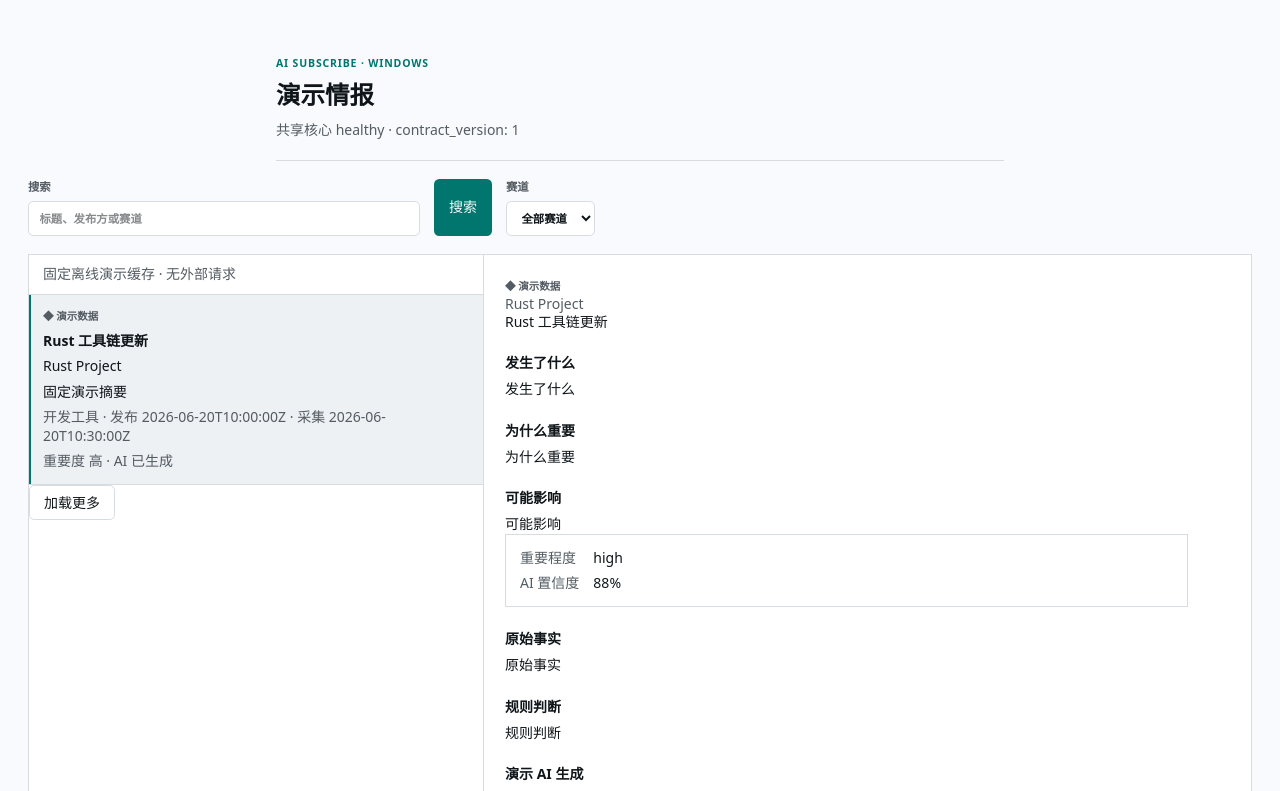
Test: Windows demo intelligence shell › keeps existing rows visible when loading another page fails
Click the button "加载更多" at (72, 503), box [29, 485, 115, 520]
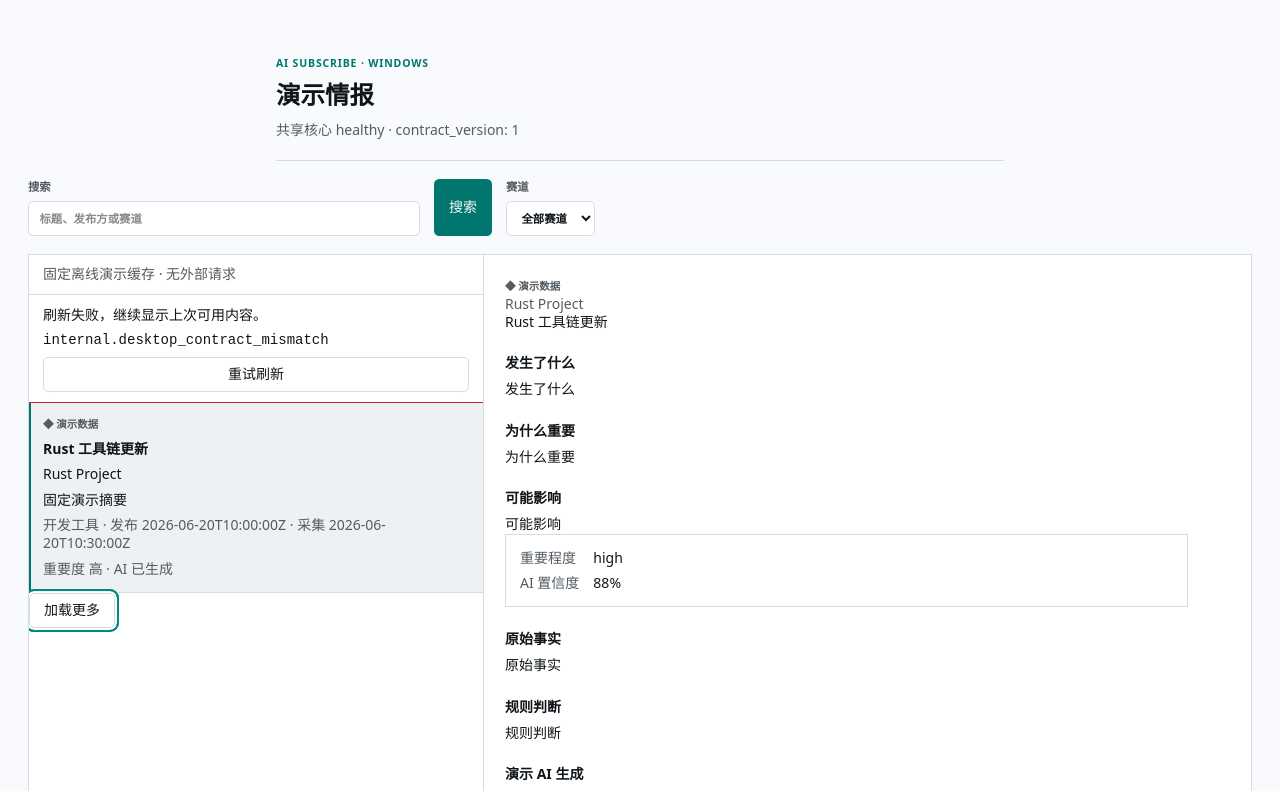
expect the button "Rust 工具链更新" is shown: met, box [29, 403, 483, 593]
expect the text "刷新失败，继续显示上次可用内容。 internal.desktop_contract_mismatch 重试刷新" is shown: met, box [29, 295, 483, 403]
